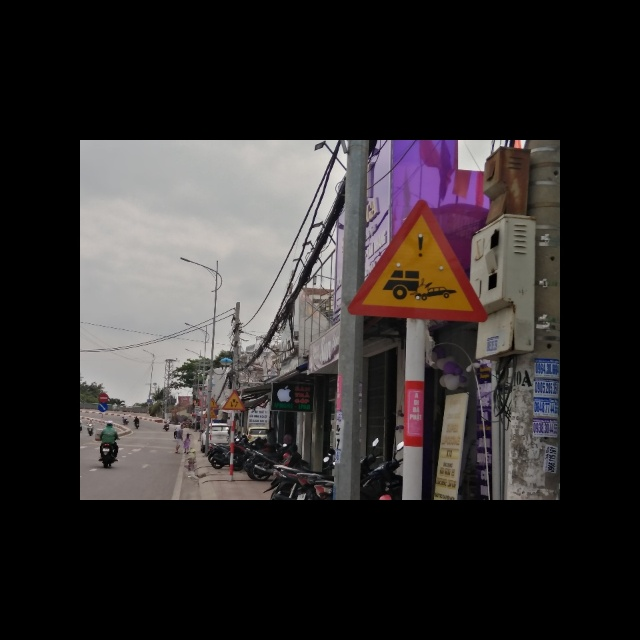Đoạn đường hay xảy ra tai nạn: (346, 197, 490, 319)
Đường đôi: (221, 389, 245, 411)
